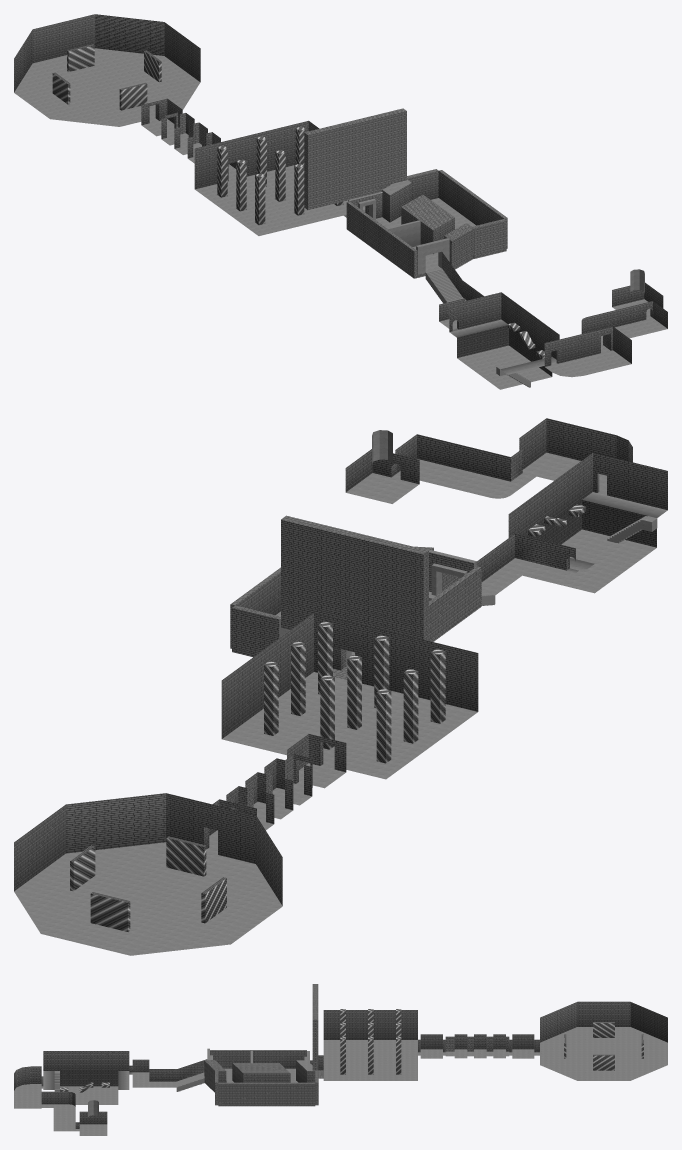
3 renders of one model, top to bottom at view 1: azimuth 30°, elevation 25°; view 2: azimuth 150°, elevation 25°; view 3: azimuth 270°, elevation 25°, orthographic. The views are drawn at different scales.
Visible parts, largest first — view 1: Cube.001-col.002, Cube.001-col.001, Cube-col, Cube.002-col, Cube.001-col.003, ramp; view 2: Cube.001-col.002, Cube-col, Cube.001-col.001, Cube.002-col, Cube.001-col.003; view 3: Cube.001-col.002, Cube-col, Cube.001-col.001, Cube.002-col, Cube.001-col.003, ramp.
Part boxes in pixels (x1,y1,x2,y2): Cube.001-col.002: (14, 14, 368, 235); Cube.001-col.001: (304, 108, 507, 278); Cube-col: (439, 252, 667, 389); Cube.002-col: (217, 126, 343, 224); Cube.001-col.003: (52, 44, 161, 110); ramp: (425, 268, 462, 303); Cube.001-col.002: (14, 613, 478, 955); Cube-col: (345, 418, 667, 594); Cube.001-col.001: (230, 515, 481, 666); Cube.002-col: (264, 621, 445, 763); Cube.001-col.003: (70, 836, 226, 931); Cube.001-col.002: (310, 1001, 667, 1080); Cube-col: (14, 1051, 207, 1135); Cube.001-col.001: (204, 984, 318, 1106); Cube.002-col: (340, 1009, 401, 1074); Cube.001-col.003: (564, 1022, 643, 1070); ramp: (176, 1072, 204, 1091).
Size of the model in its own units: 84.55 by 39.76 by 236.
4 materials, 4 textured.
